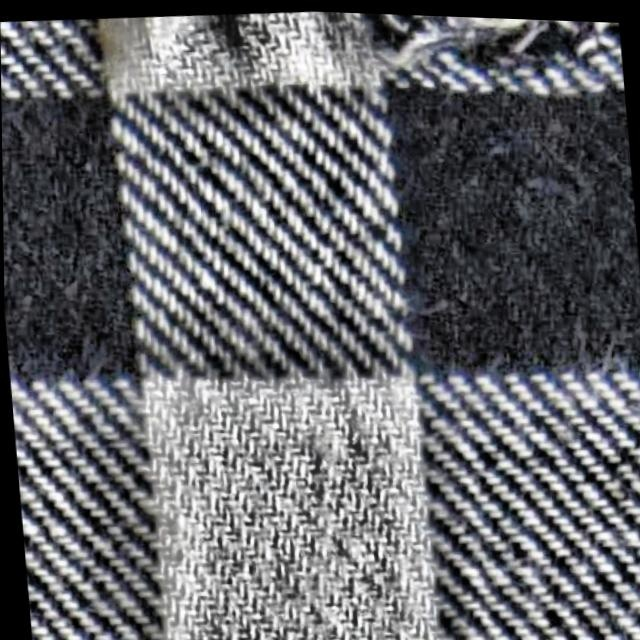Stitch: (340, 5, 625, 110)
